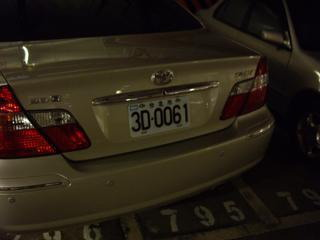plate: (127, 99, 192, 136)
